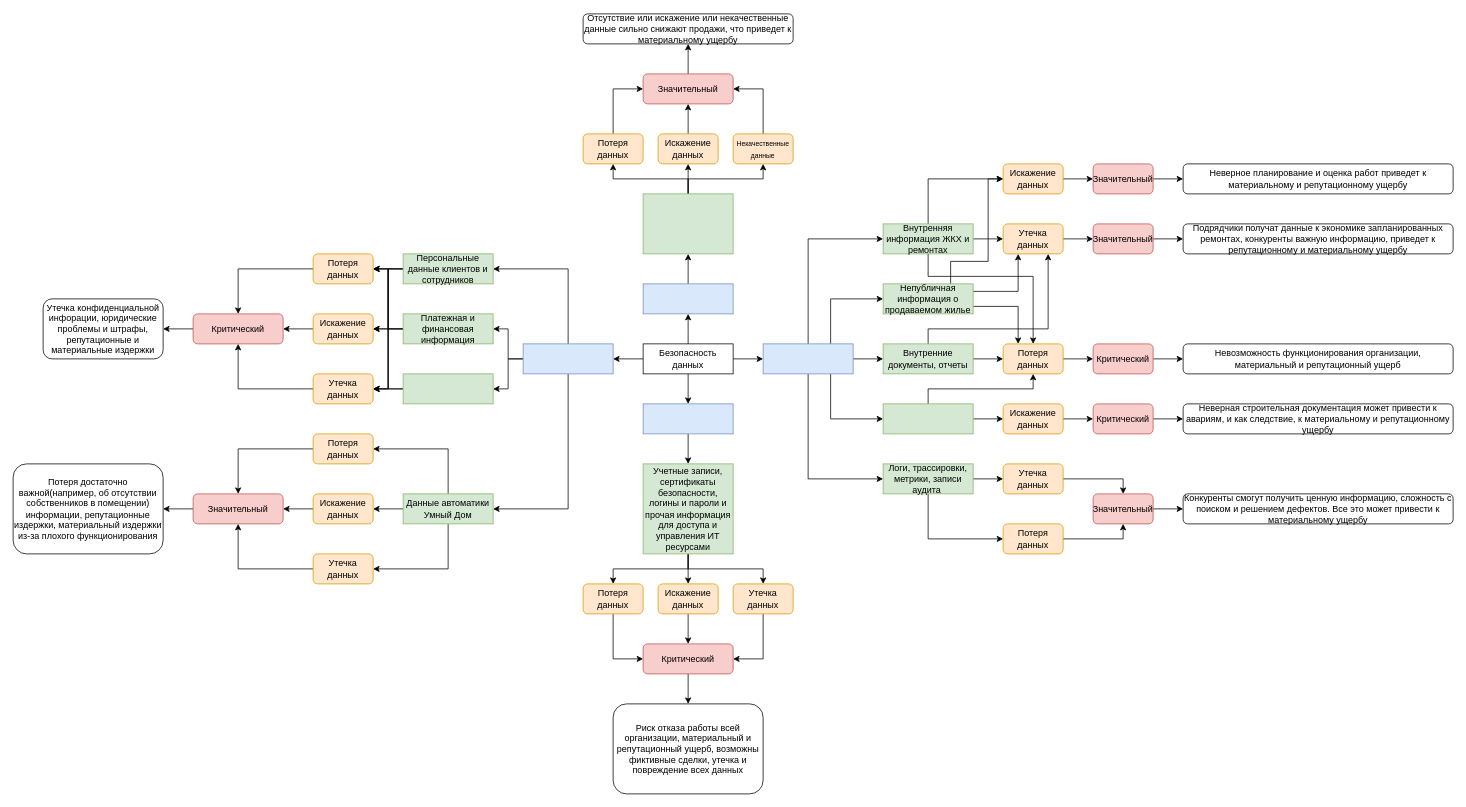
Image size: 1466x807. Some labels were removed from this diagram. The shapes that lost their labels are listed below. From the top down, each one's box as (x1, y1, x2, y2) in pixels, then its label:
(642, 193, 733, 254): Публичная информация о продаваемом жилье для online витрины и online туров
(642, 283, 733, 314): Публичные данные
(522, 343, 613, 374): Конфиденциальные данные
(762, 343, 853, 374): Внутренние данные
(402, 373, 493, 404): Данные коммерческой тайны
(642, 403, 733, 434): Секретные данные
(882, 403, 973, 434): Строительная документация
